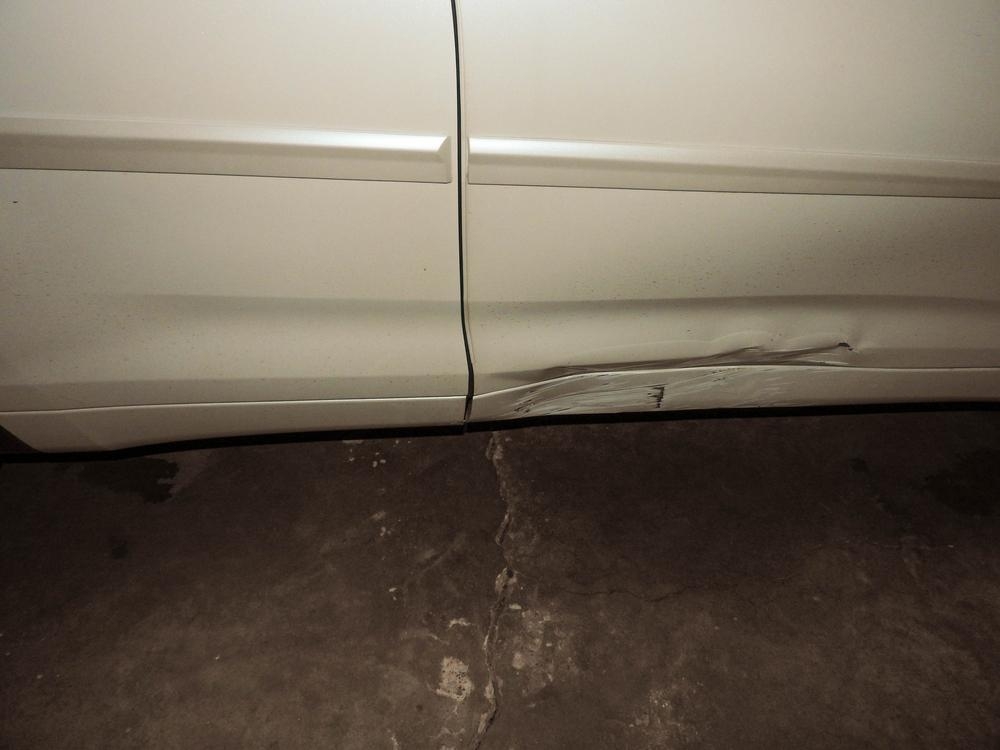dent: (497, 340, 852, 415)
